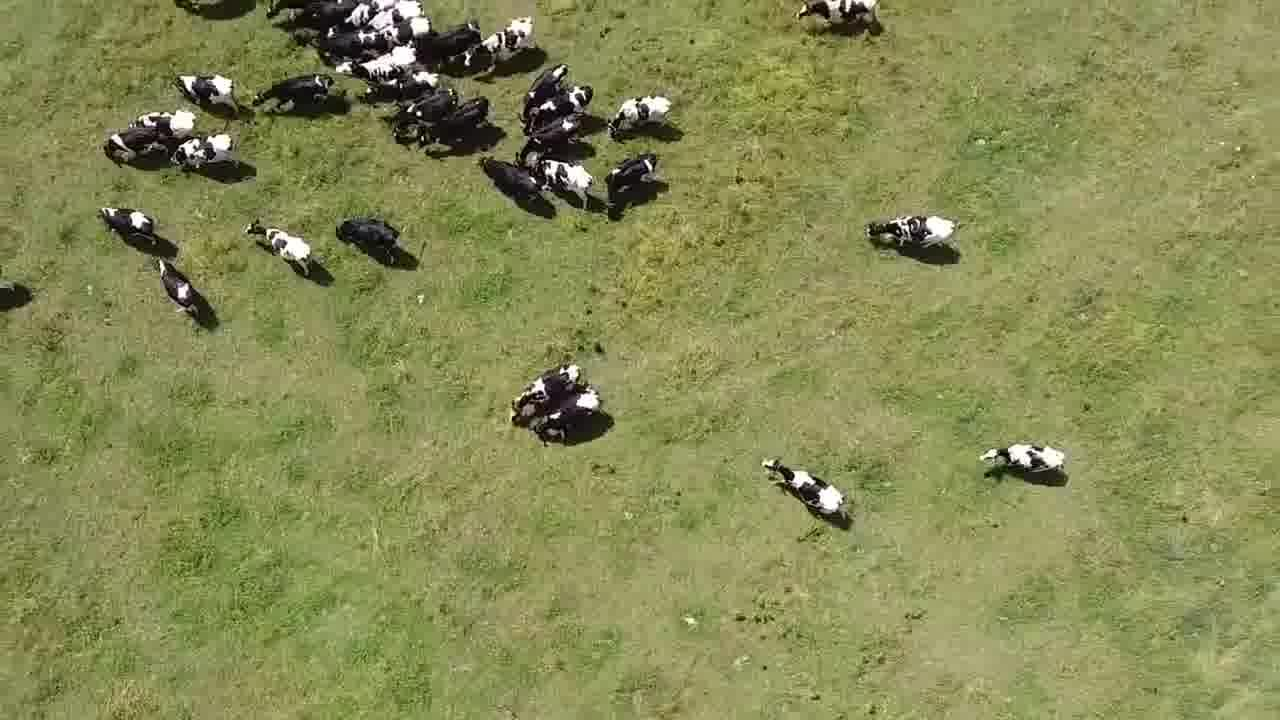cow: (759, 449, 847, 526), (507, 360, 586, 426), (243, 218, 320, 281), (528, 154, 601, 218), (465, 16, 539, 79), (534, 386, 609, 448), (332, 212, 405, 271), (421, 94, 495, 151), (521, 107, 595, 162), (390, 84, 461, 141), (977, 438, 1070, 481), (864, 212, 959, 254), (791, 0, 887, 40), (605, 90, 675, 143), (154, 254, 208, 322), (253, 71, 332, 116), (524, 82, 595, 132), (481, 155, 543, 211), (173, 70, 241, 118), (169, 134, 244, 177), (421, 17, 483, 65), (602, 150, 662, 199), (96, 200, 161, 244), (356, 42, 419, 87), (103, 127, 174, 165), (371, 11, 432, 48), (126, 109, 197, 140), (521, 62, 571, 101), (315, 35, 367, 63)
